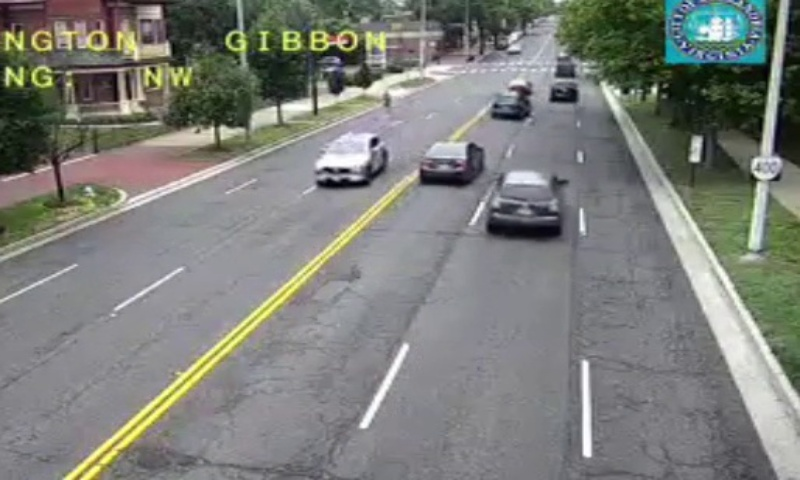car: (488, 172, 563, 230), (418, 141, 480, 181), (490, 93, 527, 117), (549, 80, 577, 101)
